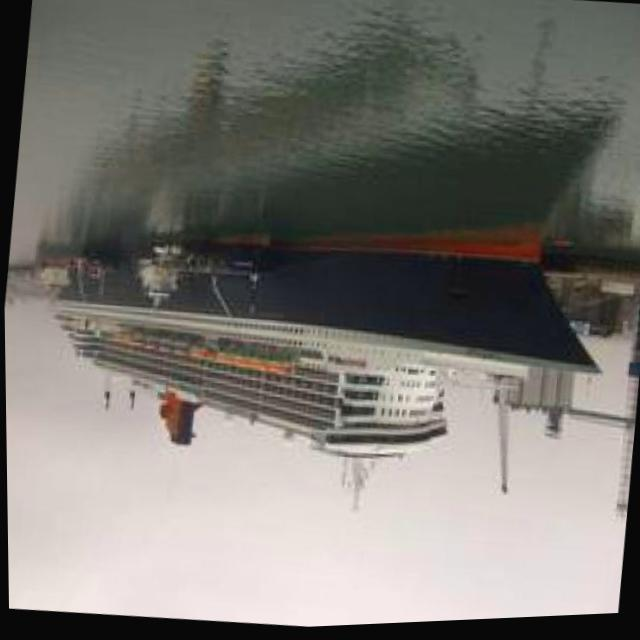ship2: (49, 226, 600, 513)
